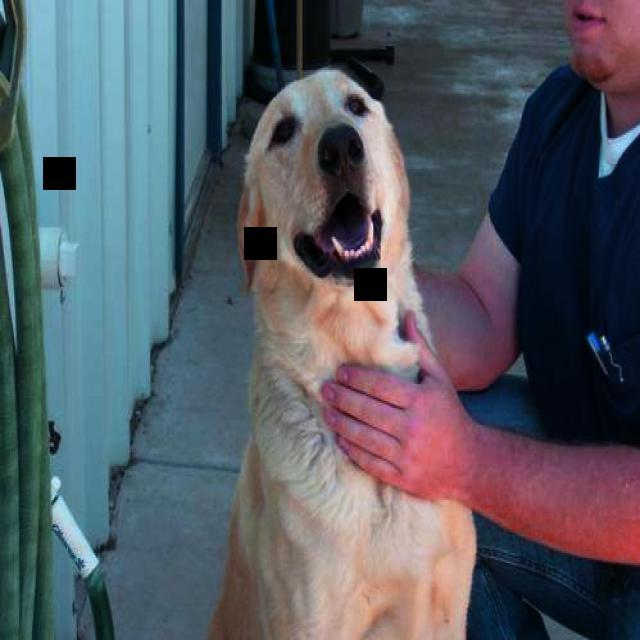adult_dog: (202, 68, 479, 640)
